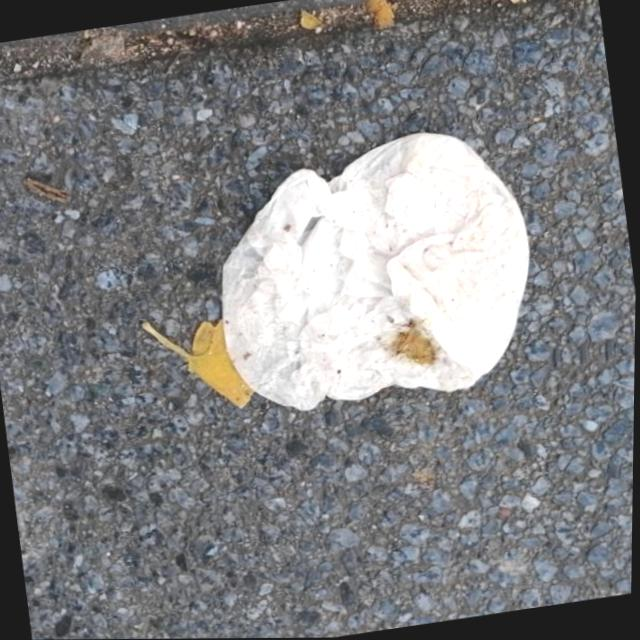Paper: (198, 117, 553, 427)
